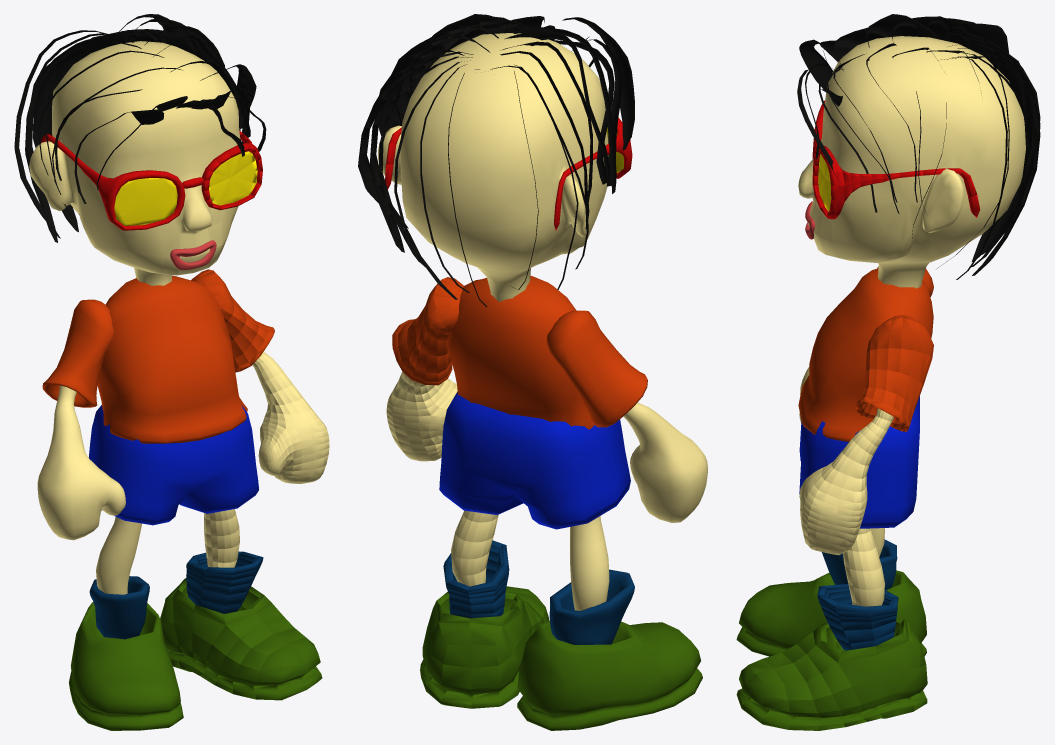
The picture shows the model from 3 angles, left to right: view 1: azimuth 30°, elevation 25°; view 2: azimuth 150°, elevation 25°; view 3: azimuth 270°, elevation 25°; orthographic projection. The views are drawn at different scales.
Visible parts, largest first — view 1: Sphere01.001_Mesh.042, Box01.001_Mesh.043, Box06.001_Mesh.052, Box03.001_Mesh.046, Box04.001_Mesh.048, Box02.001_Mesh.045, Box05.001_Mesh.050, Tube01.001_Mesh.044, Tube04.001_Mesh.053, Tube03.001_Mesh.051, Tube02.001_Mesh.049, Cylinder03.001_Mesh.082 (+15 smaller); view 2: Sphere01.001_Mesh.042, Box03.001_Mesh.046, Box04.001_Mesh.048, Box01.001_Mesh.043, Box06.001_Mesh.052, Tube01.001_Mesh.044, Box02.001_Mesh.045, Tube03.001_Mesh.051, Box05.001_Mesh.050, Tube02.001_Mesh.049, Cylinder01.001_Mesh.047, Tube04.001_Mesh.053 (+18 smaller); view 3: Sphere01.001_Mesh.042, Box06.001_Mesh.052, Box01.001_Mesh.043, Box05.001_Mesh.050, Box04.001_Mesh.048, Box03.001_Mesh.046, Tube03.001_Mesh.051, Tube04.001_Mesh.053, Tube06.001_Mesh.080, Cylinder02.001_Mesh.054, QuadPatch08.001_Mesh.059, Tube02.001_Mesh.049 (+13 smaller).
Boxes of the visible parts, x1,y1,x2,y2 form: Sphere01.001_Mesh.042: (29, 41, 240, 285); Box01.001_Mesh.043: (97, 275, 247, 443); Box06.001_Mesh.052: (160, 578, 322, 700); Box03.001_Mesh.046: (89, 405, 258, 525); Box04.001_Mesh.048: (69, 602, 183, 730); Box02.001_Mesh.045: (37, 385, 125, 540); Box05.001_Mesh.050: (252, 351, 329, 483); Tube01.001_Mesh.044: (42, 299, 113, 407); Tube04.001_Mesh.053: (186, 551, 263, 613); Tube03.001_Mesh.051: (191, 269, 274, 372); Tube02.001_Mesh.049: (89, 576, 149, 639); Cylinder03.001_Mesh.082: (114, 178, 177, 225); Sphere01.001_Mesh.042: (378, 33, 608, 301); Box03.001_Mesh.046: (439, 391, 630, 529); Box04.001_Mesh.048: (517, 620, 702, 730); Box01.001_Mesh.043: (446, 275, 593, 429); Box06.001_Mesh.052: (420, 586, 549, 708); Tube01.001_Mesh.044: (546, 310, 647, 427); Box02.001_Mesh.045: (623, 402, 707, 522); Tube03.001_Mesh.051: (392, 277, 463, 385); Box05.001_Mesh.050: (386, 372, 457, 461); Tube02.001_Mesh.049: (549, 569, 634, 644); Cylinder01.001_Mesh.047: (570, 516, 609, 610); Tube04.001_Mesh.053: (443, 540, 509, 618); Sphere01.001_Mesh.042: (798, 36, 1025, 288); Box06.001_Mesh.052: (736, 616, 927, 730); Box01.001_Mesh.043: (798, 268, 933, 441); Box05.001_Mesh.050: (799, 408, 893, 554); Box04.001_Mesh.048: (736, 570, 926, 656); Box03.001_Mesh.046: (799, 396, 919, 528); Tube03.001_Mesh.051: (856, 315, 933, 431); Tube04.001_Mesh.053: (817, 584, 898, 650); Tube06.001_Mesh.080: (812, 146, 980, 219); Cylinder02.001_Mesh.054: (843, 528, 884, 606); QuadPatch08.001_Mesh.059: (947, 43, 1040, 255); Tube02.001_Mesh.049: (822, 539, 897, 589).
Size of the model in its own units: 2.31 by 4.94 by 2.09.
